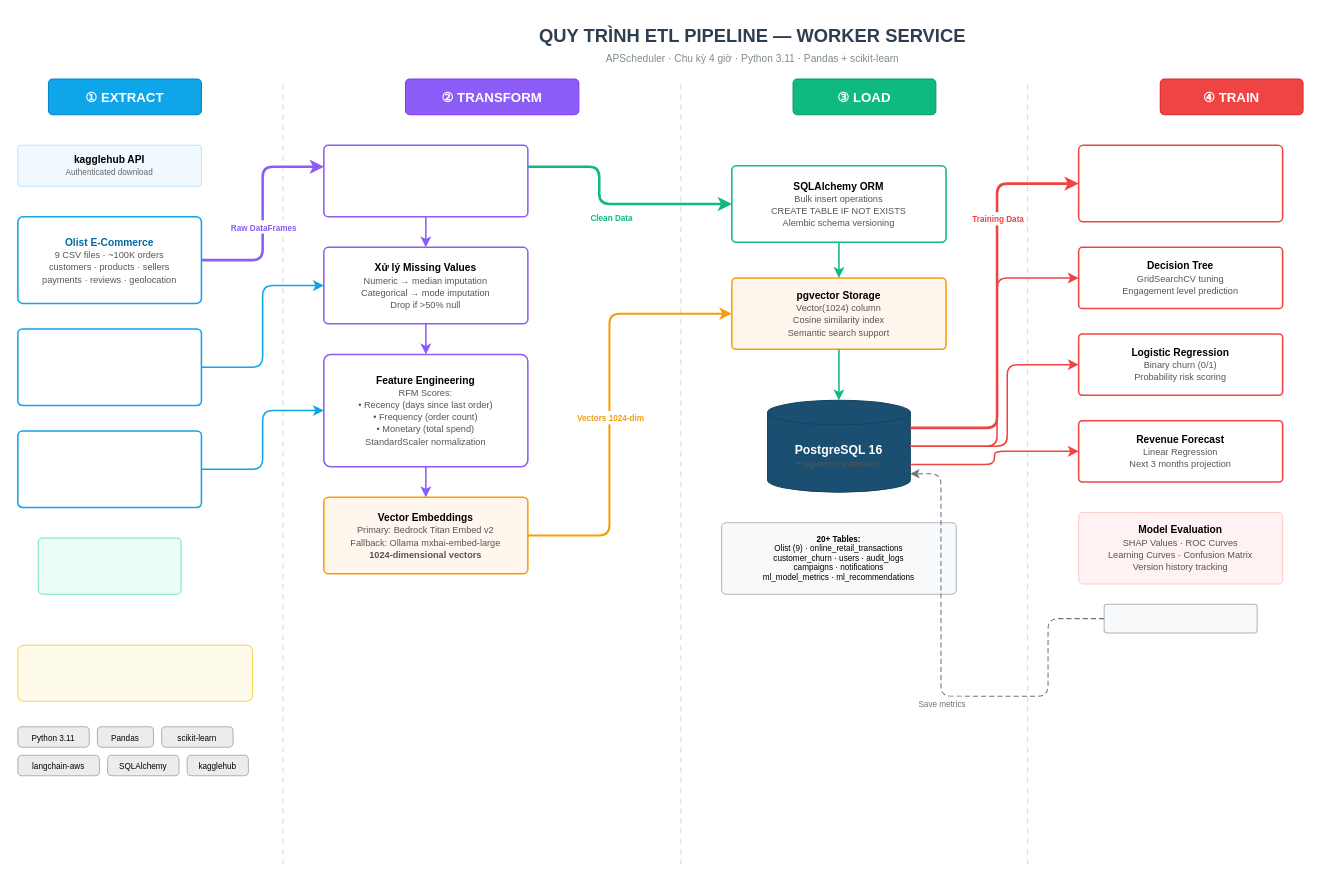
Some shapes in this 1322 by 888 pixel diagram are drawn without their labels. The centre of each missing label's shape, as x and y in pixels:
"Chuẩn hóa cột snake_case naming Consistent dtypes pandas DataFrame" goes at point (425, 180).
"Customer Churn 1 CSV file 5,000+ labeled records Engagement features" goes at point (109, 469).
"K-Means Clustering k=5 on RFM features → VIP · Loyal · Regular At Risk · Lost" goes at point (1180, 183).
"Online Retail 1 Excel file 4,300+ unique customers 500K+ transactions" goes at point (109, 367).
"→ ml_model_metrics table" goes at point (1180, 618).
"⏰ APScheduler Cycle: Every 4 hours restart: on-failure · mem_limit: 2G" goes at point (134, 672).
"✓ Null check ✓ Duplicate check ✓ Schema validation" goes at point (109, 565).
